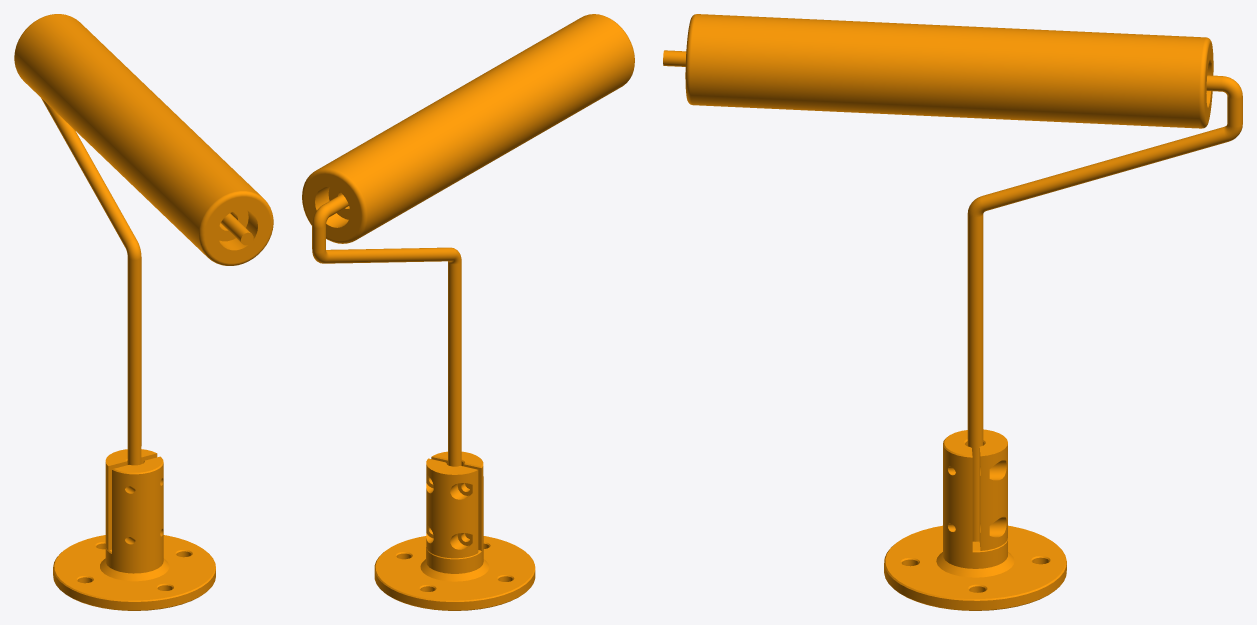
Rendered from rolling_pin.dae.
3 renders of one model, left to right at view 1: azimuth 30°, elevation 25°; view 2: azimuth 150°, elevation 25°; view 3: azimuth 270°, elevation 25°, orthographic. The views are drawn at different scales.
Visible parts, largest first — view 1: __杖, __杖夹持, __杖1, __夹持2; view 2: __杖, __杖夹持, __杖1, __夹持2; view 3: __杖, __杖夹持, __杖1, __夹持2.
Part boxes in pixels (x1,y1,x2,y2): __杖: (14,14,273,265); __杖夹持: (53,456,215,610); __杖1: (41,98,253,465); __夹持2: (105,449,157,550); __杖: (302,14,634,243); __杖夹持: (374,451,535,610); __杖1: (312,194,461,466); __夹持2: (426,458,478,558); __杖: (685,14,1213,128); __杖夹持: (884,430,1066,610); __杖1: (663,50,1242,541); __夹持2: (979,429,1007,550).
Size of the model in its own units: 69.96 by 222 by 229.
